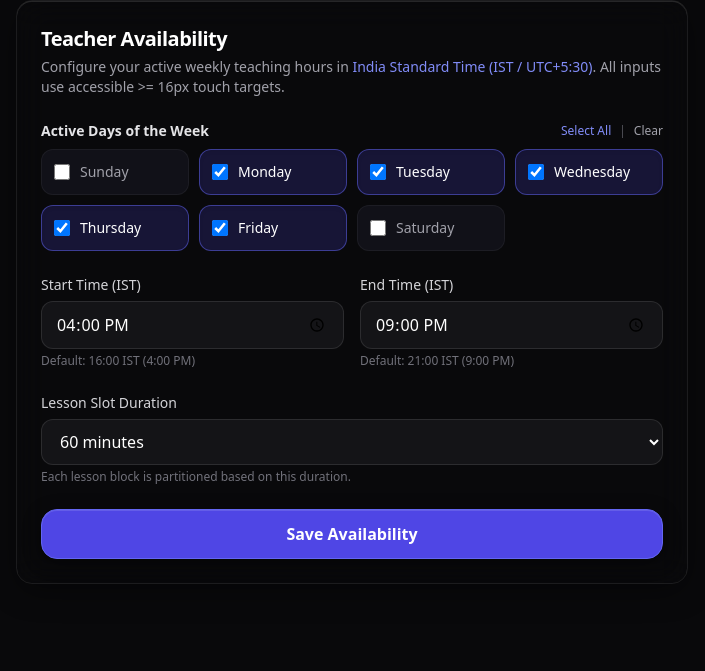
Test: TeacherAvailabilityForm Component › displays validation error if no days are selected
The image size is (705, 671).
// Clear all days
Click the button "Clear": (648, 131) [634,123,663,139]
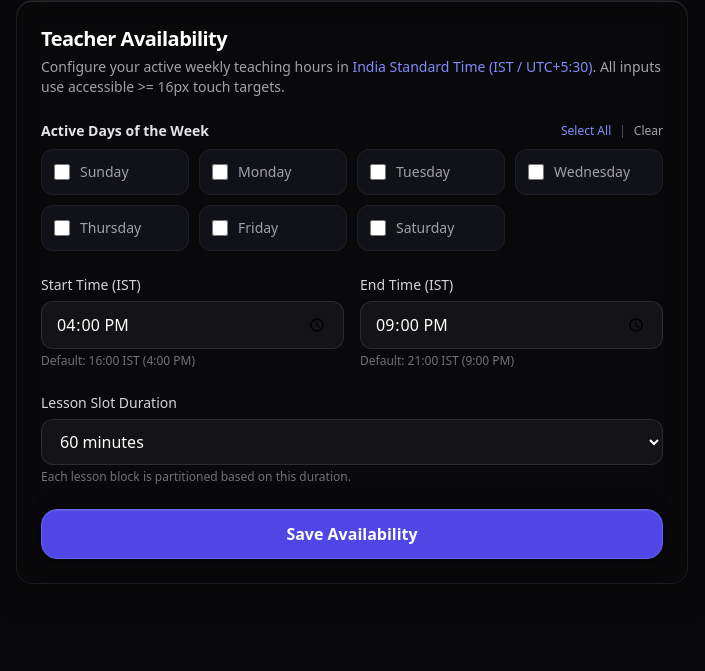
// Submit form
Click the button "Save Availability": (352, 534) [41,509,663,559]
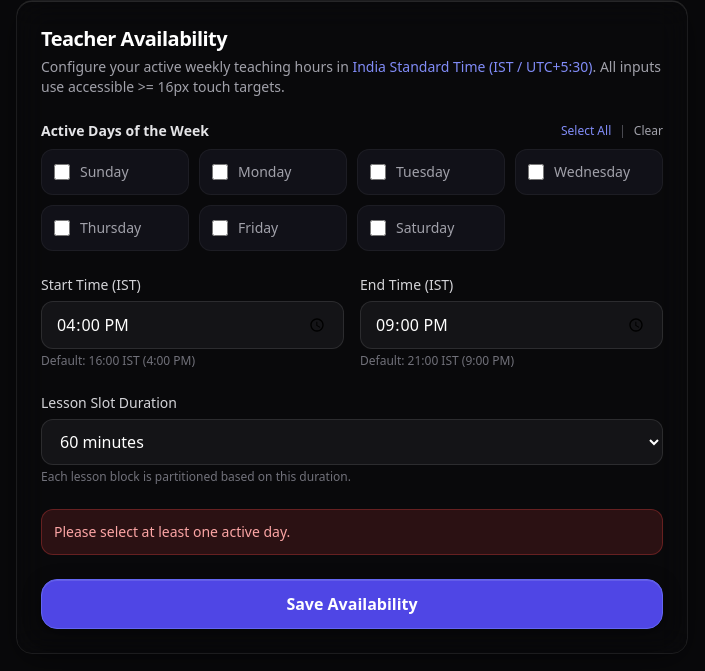
Result: the message shows "Please select at least one active day" at [54,522,290,541]
